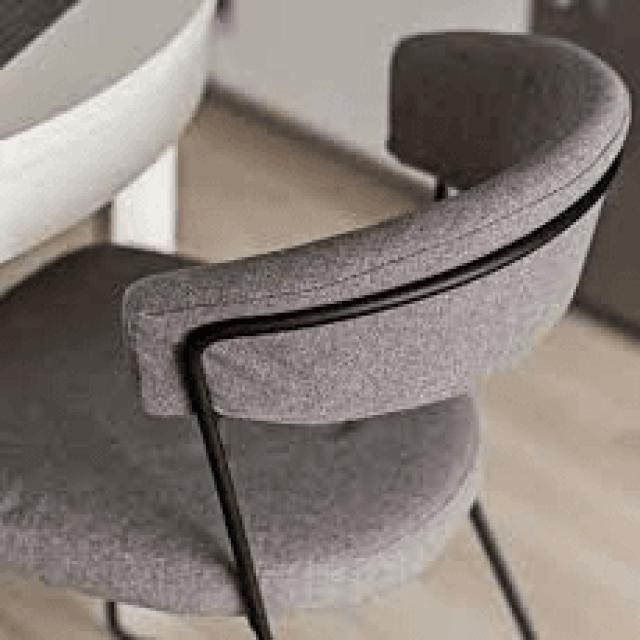chair: (0, 20, 637, 640), (37, 49, 567, 546)
